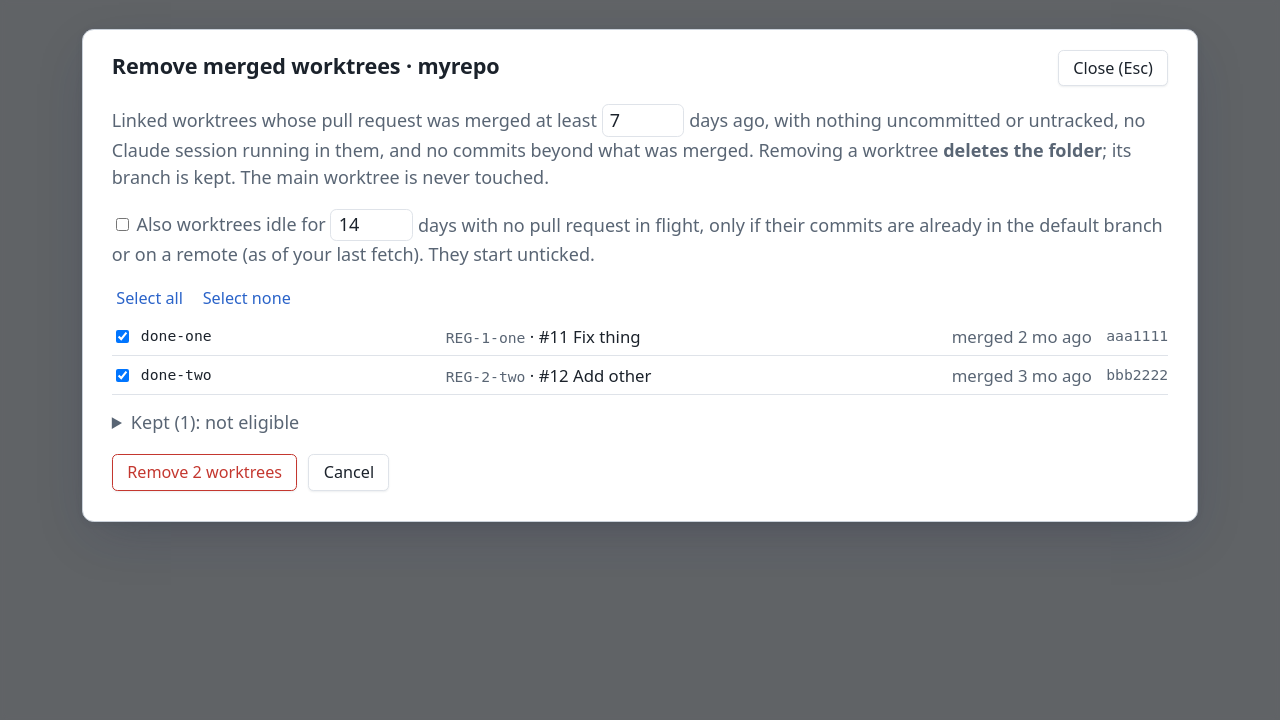
Test: WorktreeCleanupModal › reports each result and points at the branch cleanup
The width and height of the screenshot is (1280, 720).
Step 1. Click the button "Remove 2 worktrees" → click(205, 473), box [112,454,298,491]
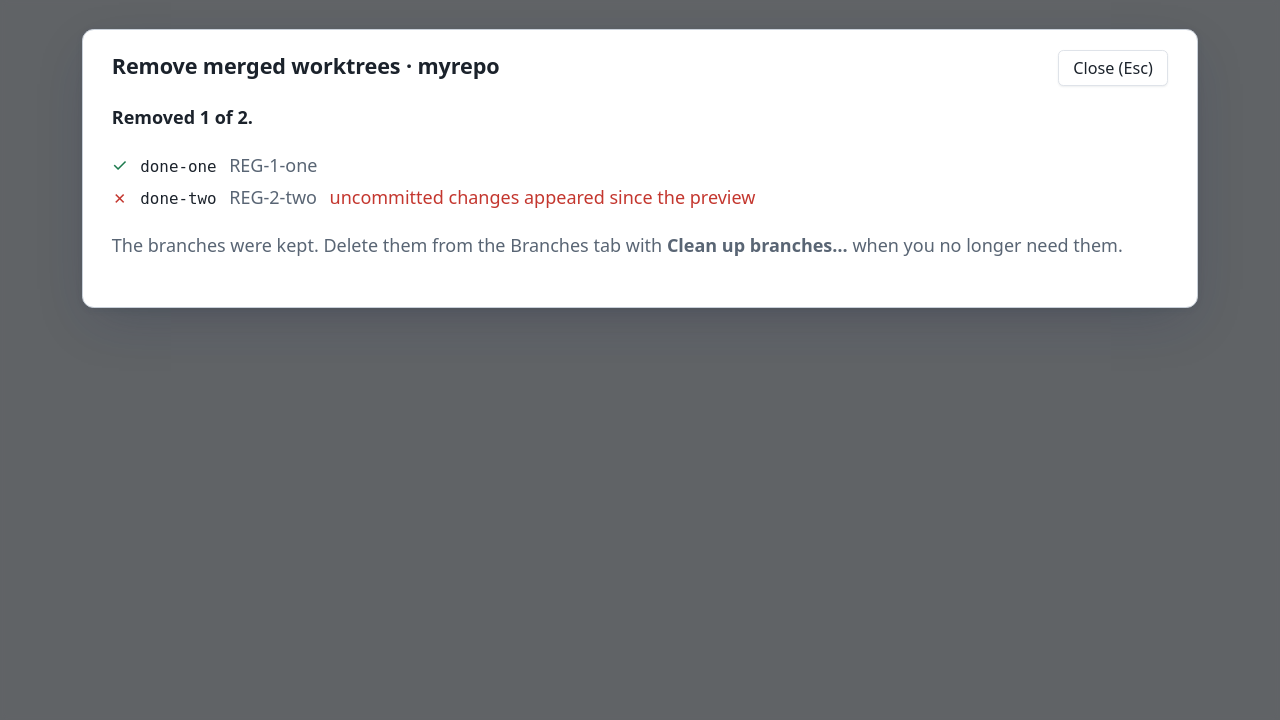
Now the text "Removed 1 of 2" is shown, box [112,105,253,129]
Now the text "uncommitted changes appeared" is shown, box [330,185,755,209]
Now the text "Clean up branches" is shown, box [667,233,848,257]
